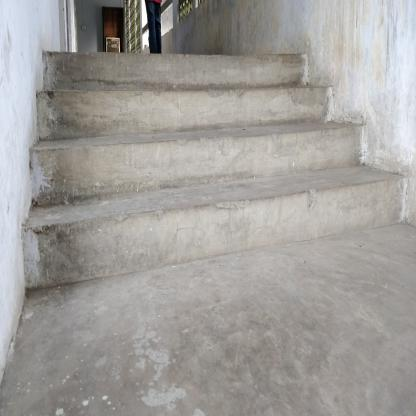stairs: (42, 53, 313, 238)
